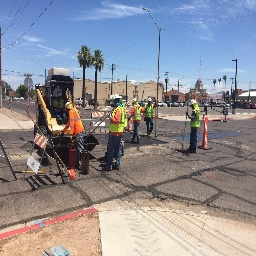person: (60, 100, 88, 173), (104, 95, 127, 174), (186, 95, 202, 156), (143, 94, 158, 140), (131, 97, 143, 147)
vest: (62, 109, 85, 139), (109, 104, 128, 139), (189, 107, 201, 132), (131, 103, 143, 126), (145, 103, 155, 125)
